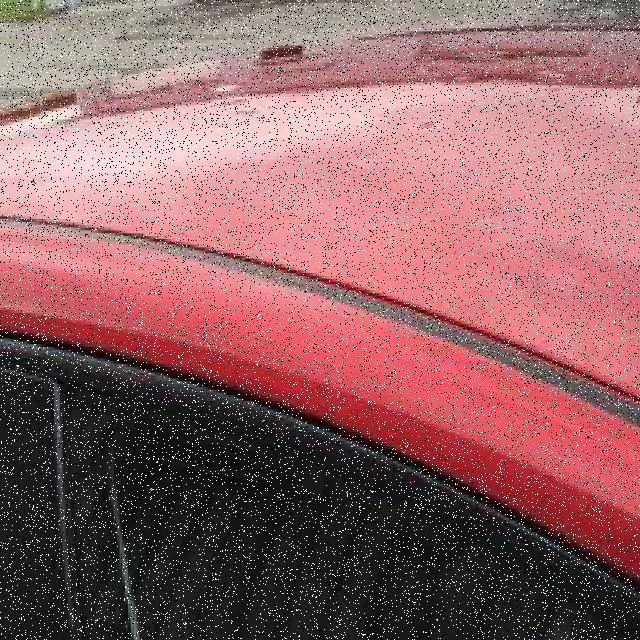roof-dent: (148, 48, 498, 324), (503, 29, 638, 328)
